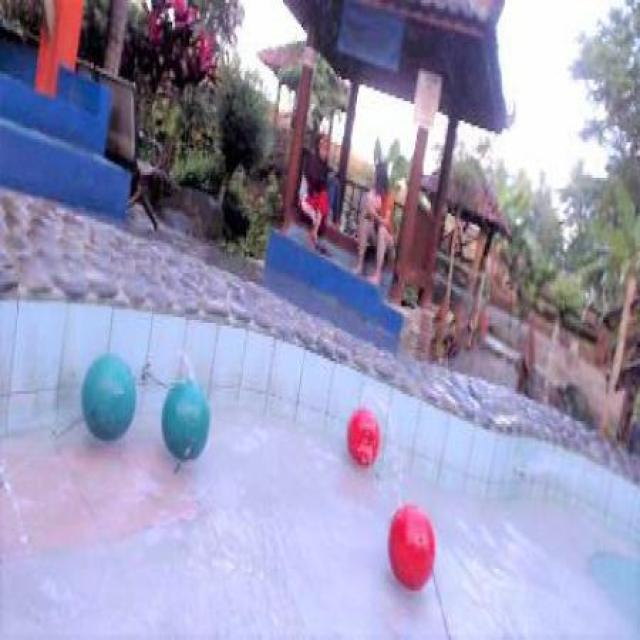buoy: (82, 353, 137, 441), (386, 498, 436, 590), (162, 378, 208, 458), (346, 406, 381, 464)
